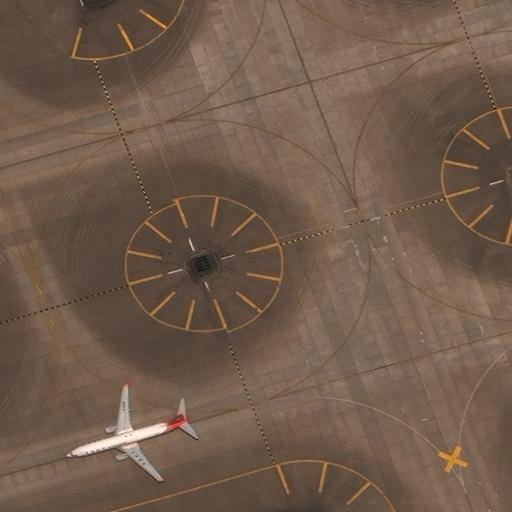Medium Civil Transport: (65, 383, 188, 482)
